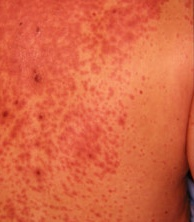SJS-TEN: (0, 0, 176, 222)
